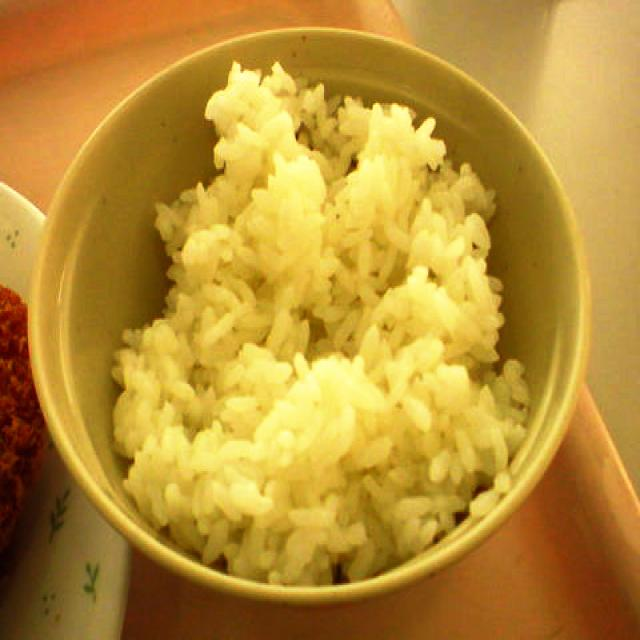rice: (109, 61, 527, 588)
